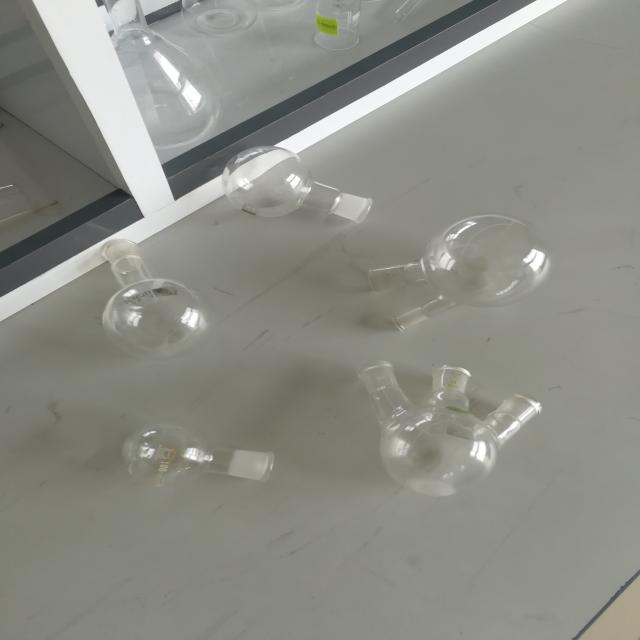Round_Bottom_Flask_Borosilicate_Glass_1_Neck: (82, 391, 308, 511), (87, 202, 232, 377), (209, 125, 397, 239)
Round_Bottom_Flask_Borosilicate_Glass_2_Neck: (319, 208, 574, 340)
Round_Bottom_Flask_Borosilicate_Glass_3_Neck: (338, 347, 557, 524)
